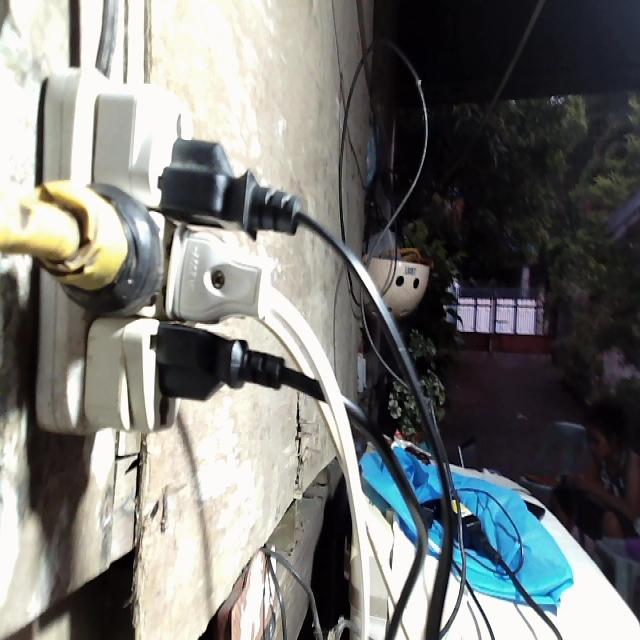-: (37, 58, 287, 430)
